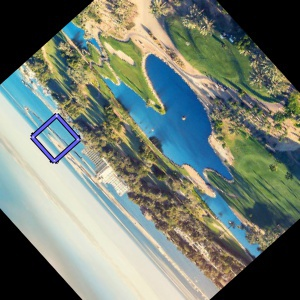square: (28, 111, 82, 165)
